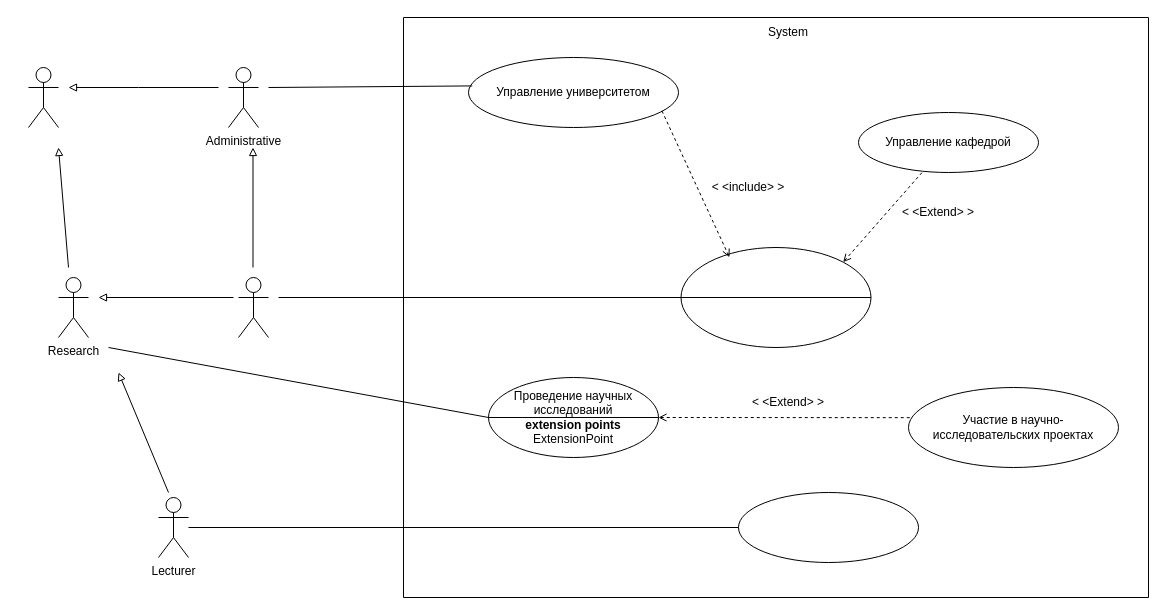
Some shapes in this 1166 by 615 pixel diagram are drawn without their labels. Here are the shapes that lost their labels. From the top down, the centre of each, then its label:
the point at 43,97: Employee
the point at 253,307: Dean
the point at 775,297: Управление факультетом extension points ExtensionPoint
the point at 828,527: Проводить учебные занятия
